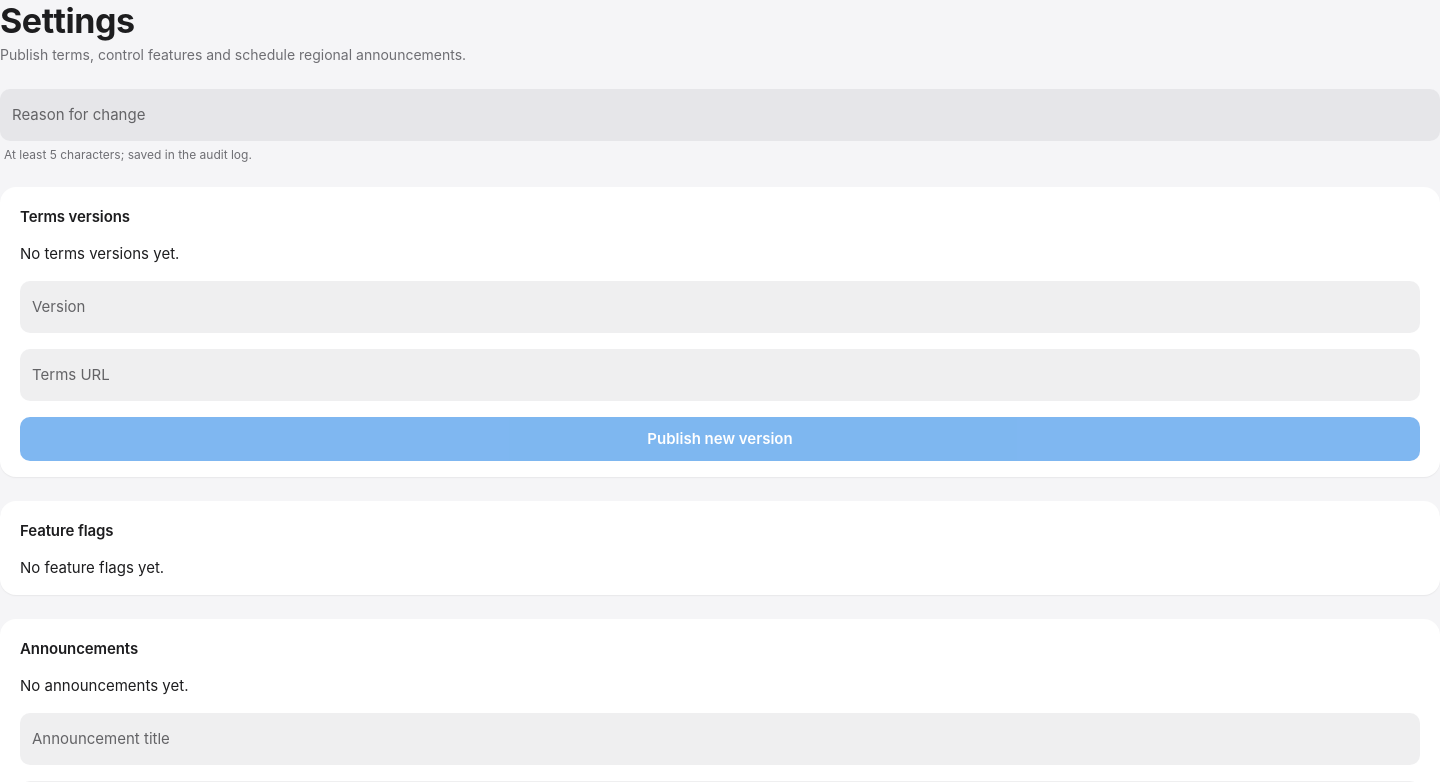
Test case: requires reason and a second confirmation to publish terms
The image size is (1440, 782).
Later steps or results of the test are not shown.
Expected: the button "Publish new version" is disabled, [20,417,1420,461]
Type "Legal review" into the field labelled "Reason for change". click: (694, 115)
box: [12,89,1376,141]
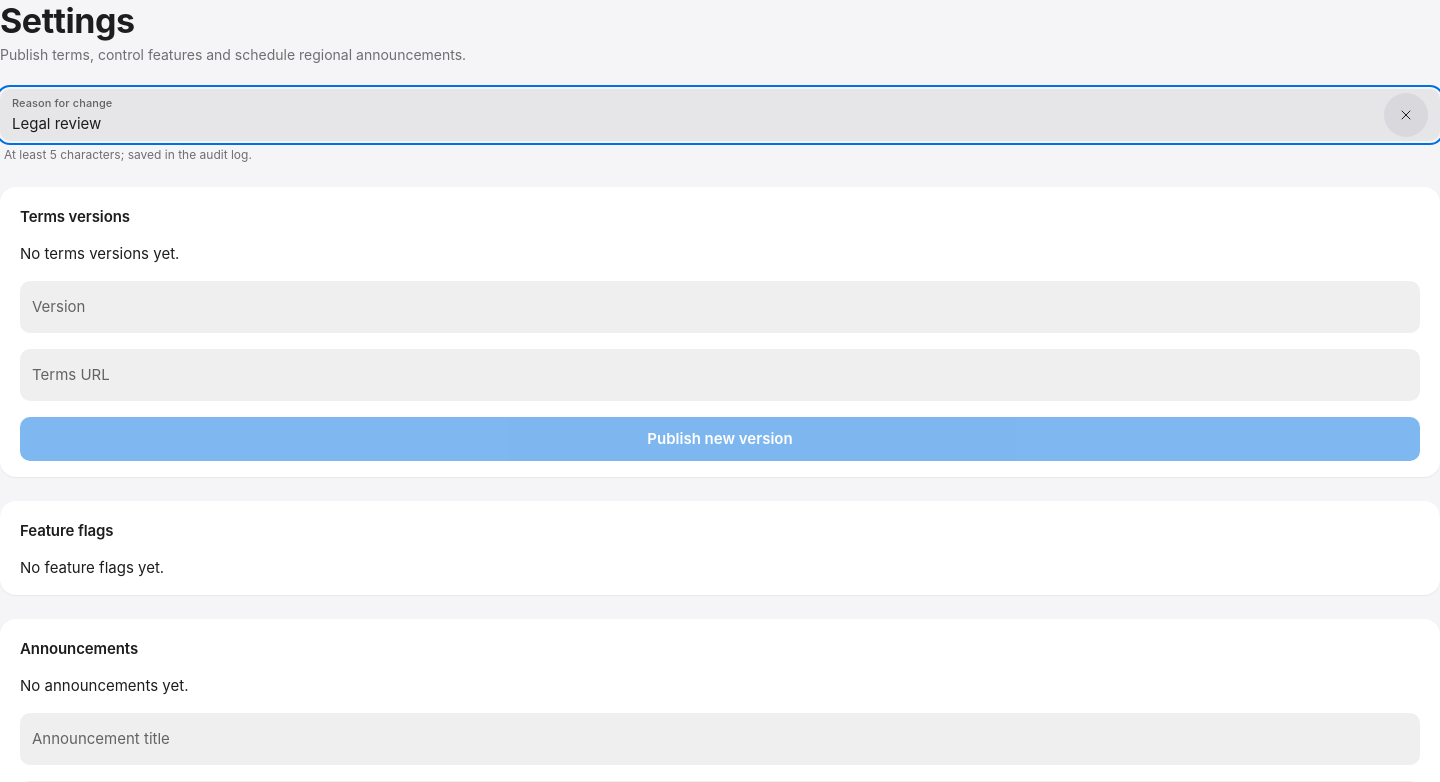
Type "v2" into the field labelled "Version". click: (694, 307)
box: [32,281,1356,333]
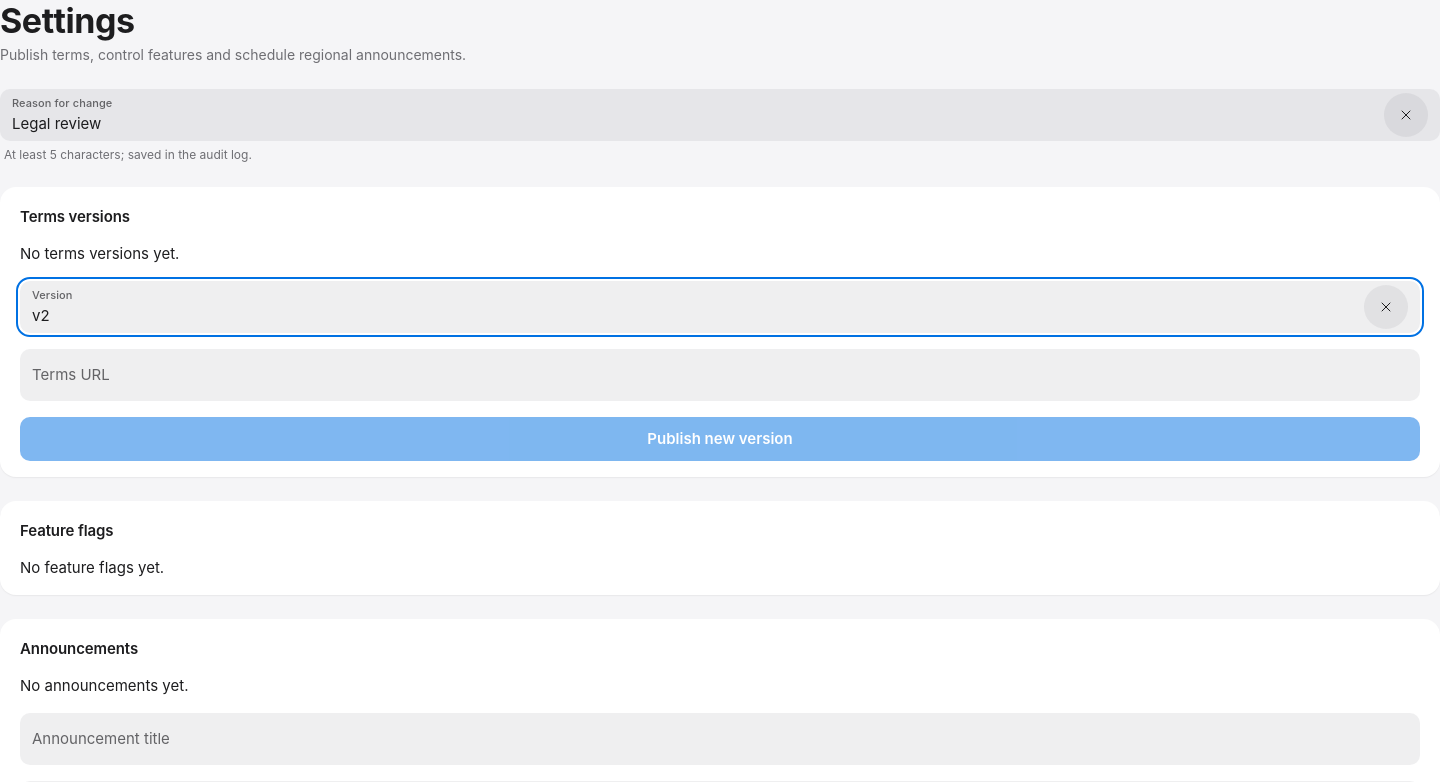
Type "/terms" into the field labelled "Terms URL". click: (694, 375)
box: [32,349,1356,401]
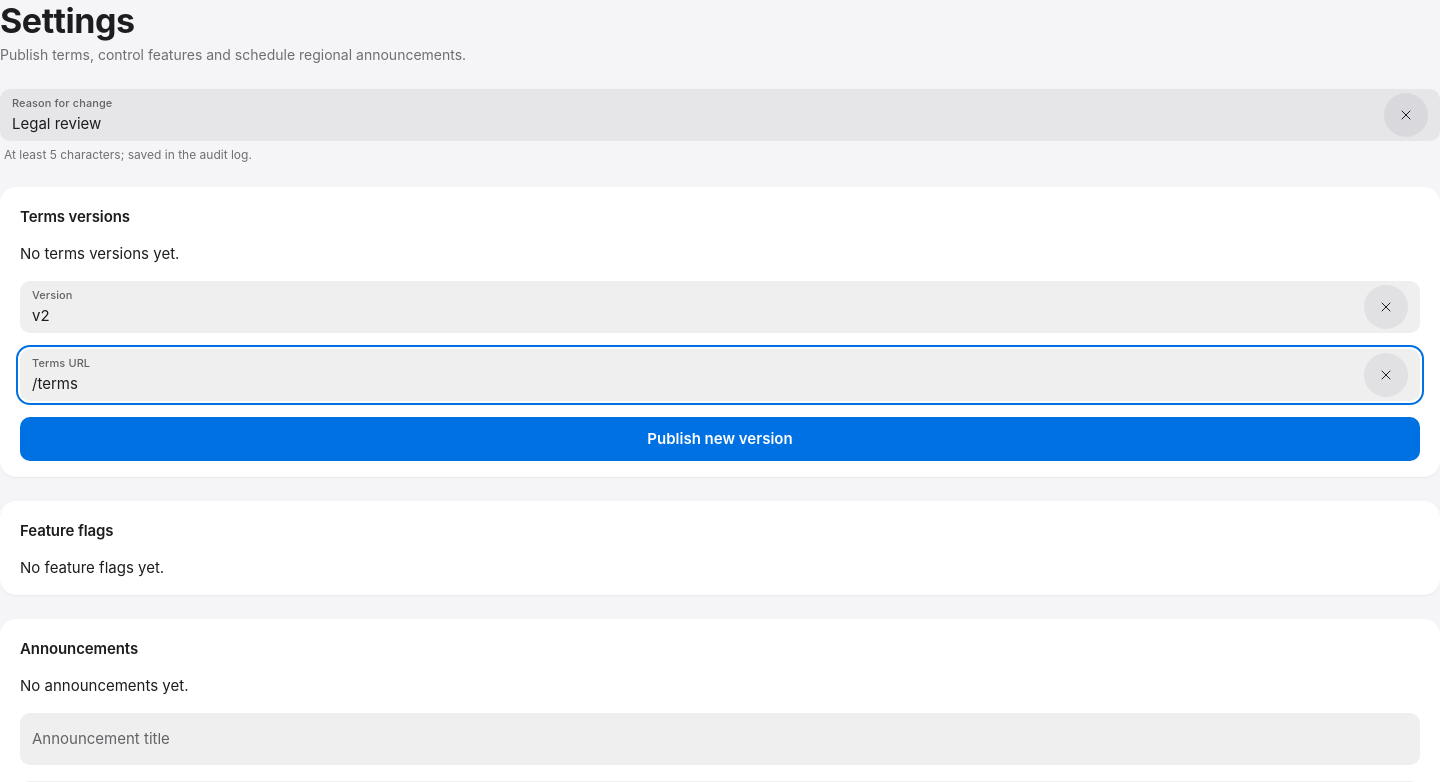
Click the button "Publish new version". click: (720, 439)
box: [20,417,1420,461]
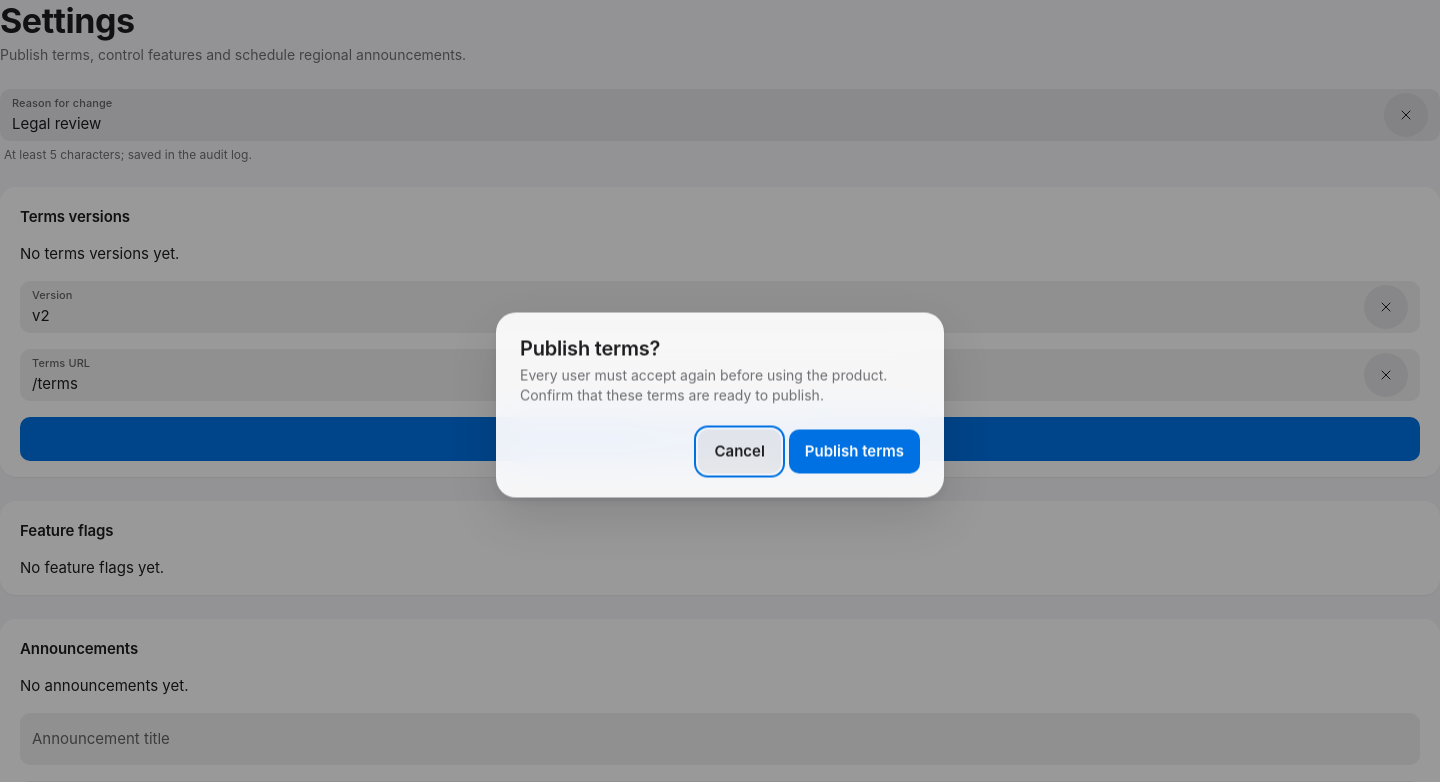
Expected: the dialog shows "Every user must accept again", [520,366,887,404]
